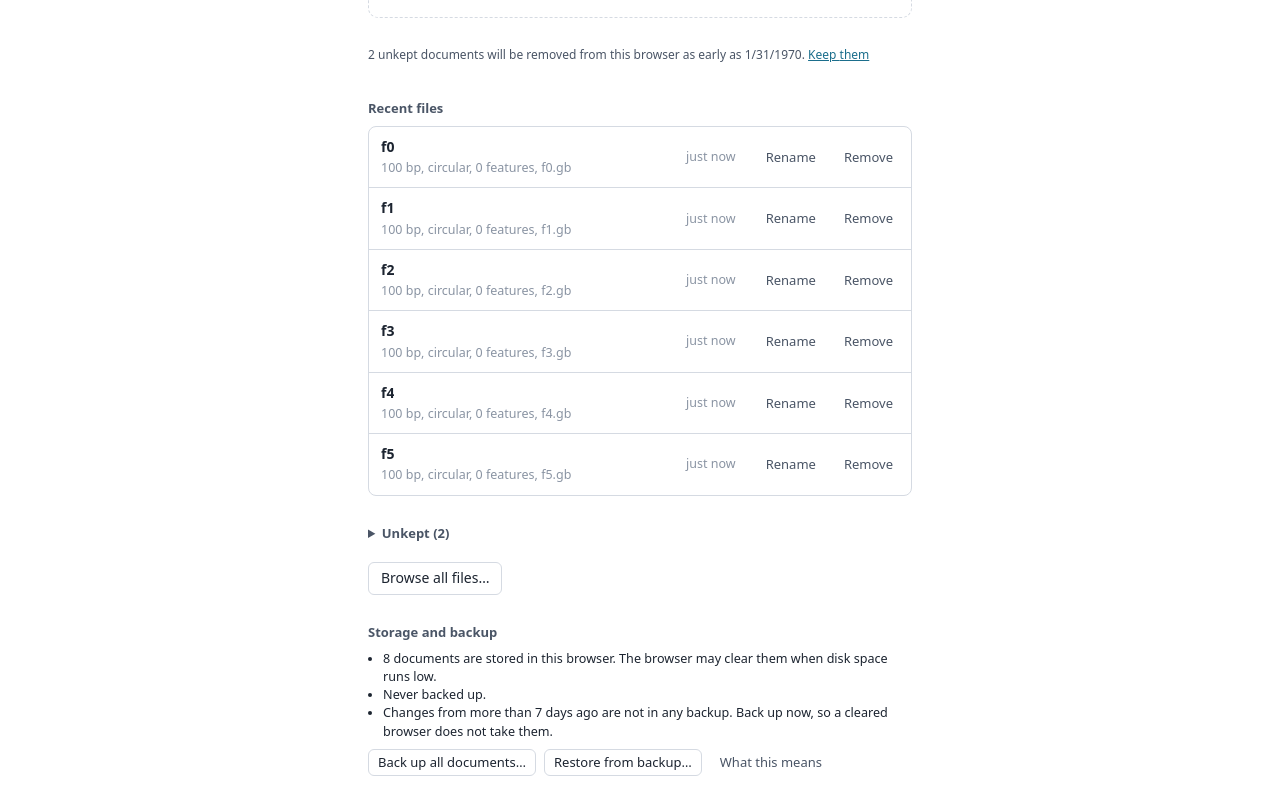
Test: scratch products of one parent are one row (item 111) › groups in the browse panel too, ticks a group at once, and opens it when searching
(page scrolled)
Click the button "Browse all files…". click: point(435, 579)
box: 368,562 -> 502,595
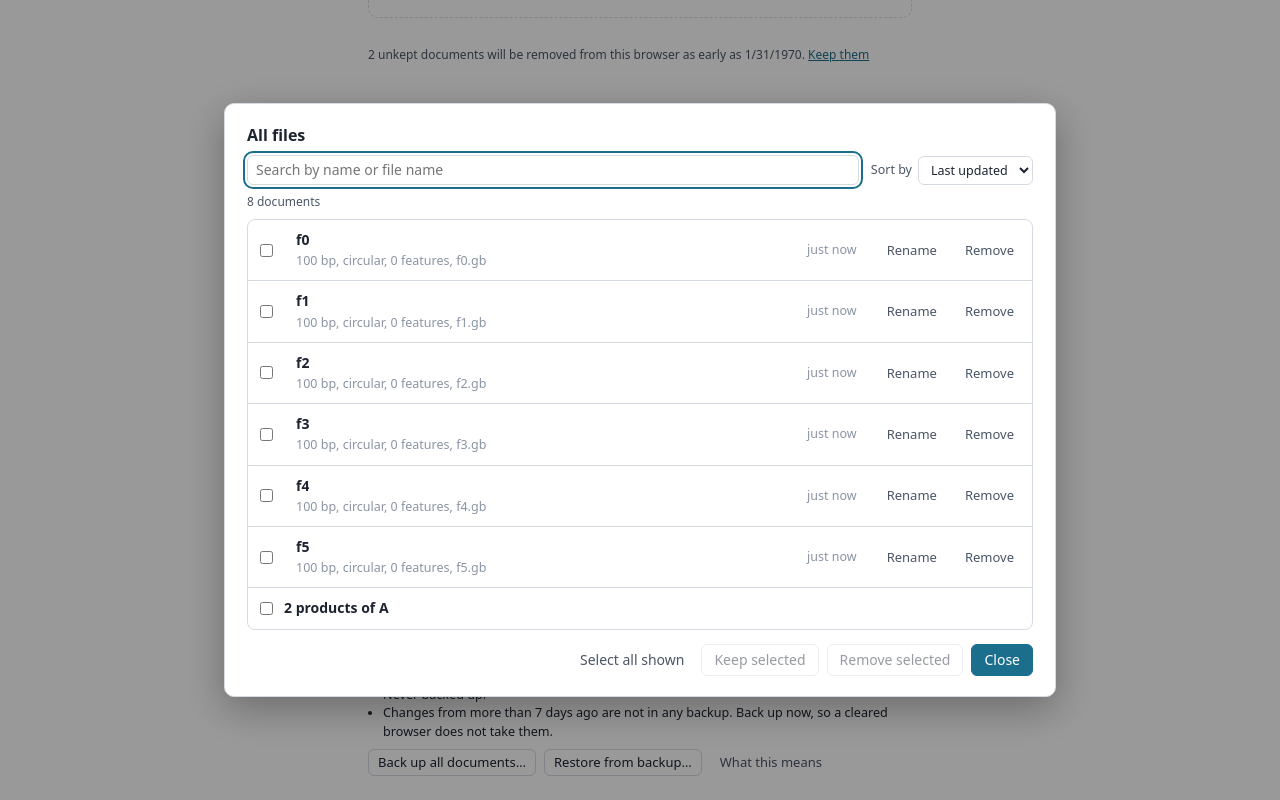
Click the checkbox named "Select the 2 products of A". click: point(266, 608)
box: 260,602 -> 273,615
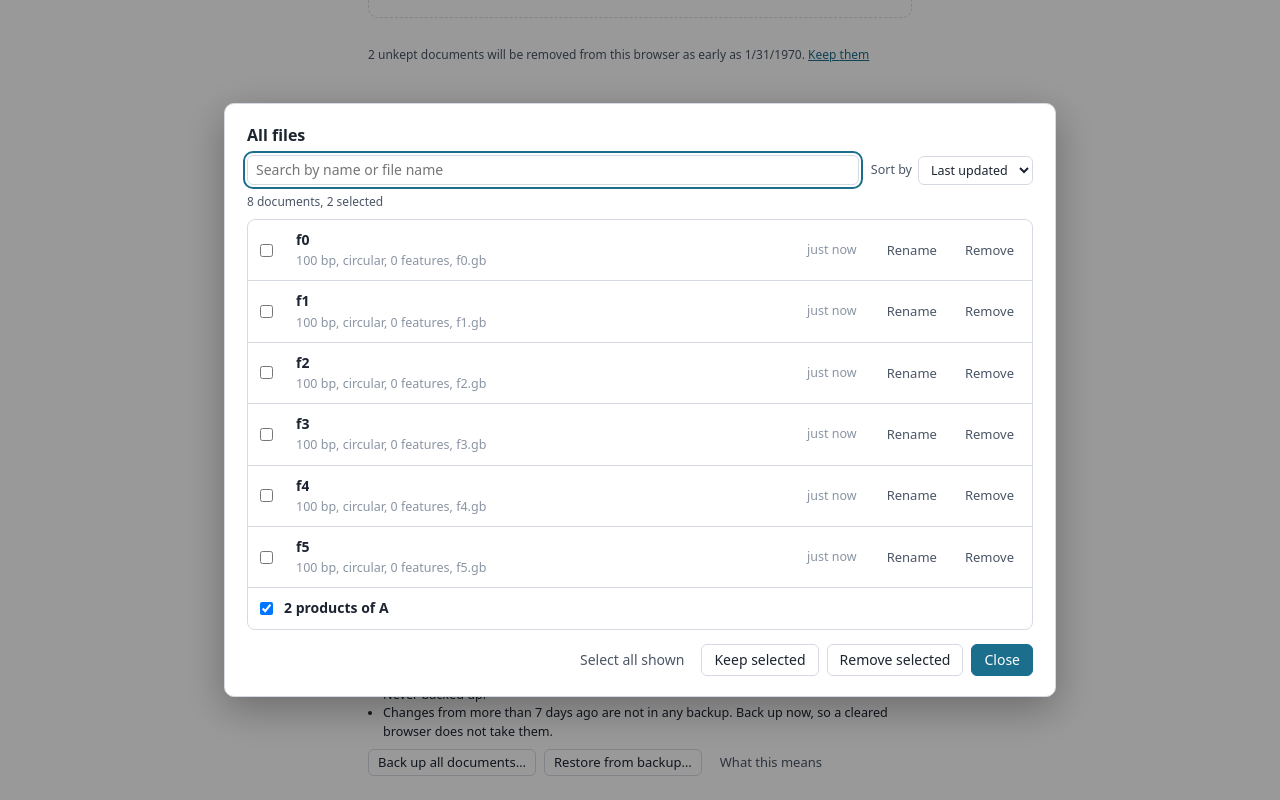
Click the button "Remove selected". click: point(895, 660)
box: 826,644 -> 963,676
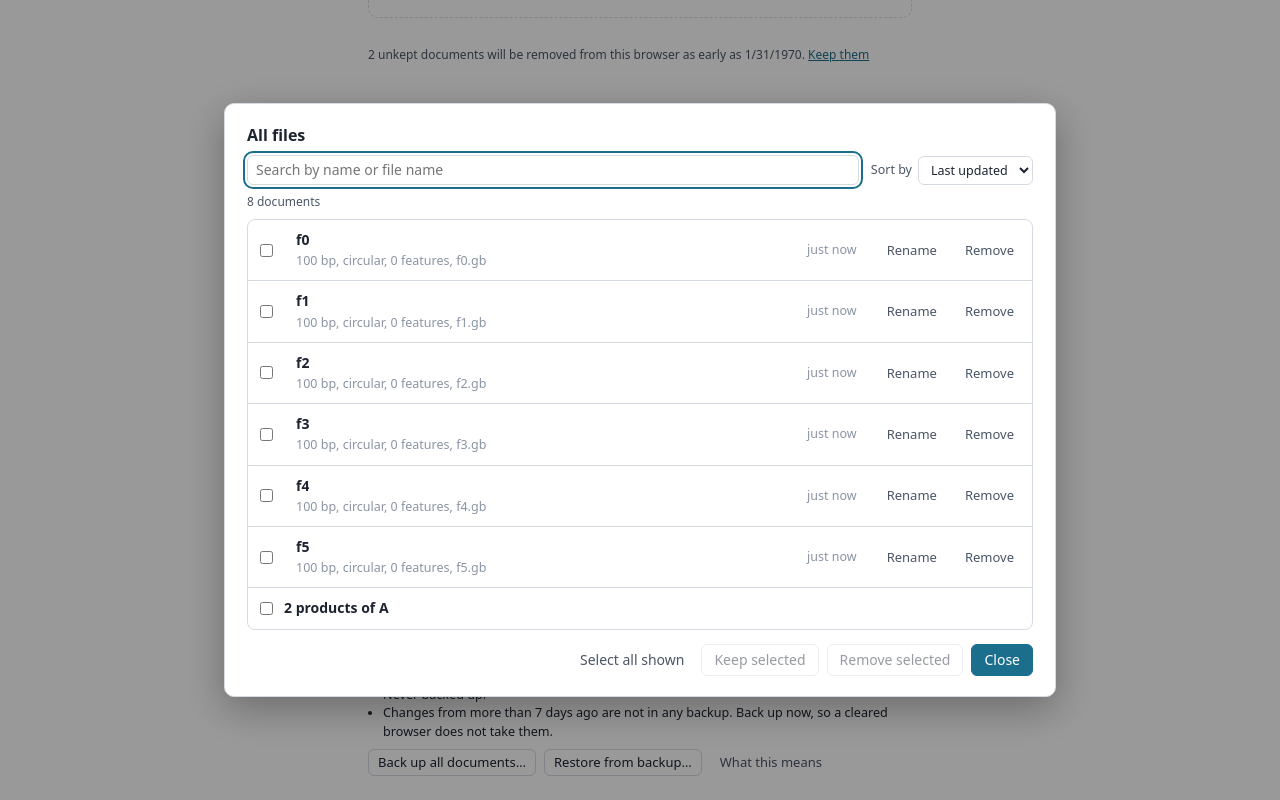
Type "ligation 1" into the search field. click: point(553, 170)
box: 247,155 -> 859,186
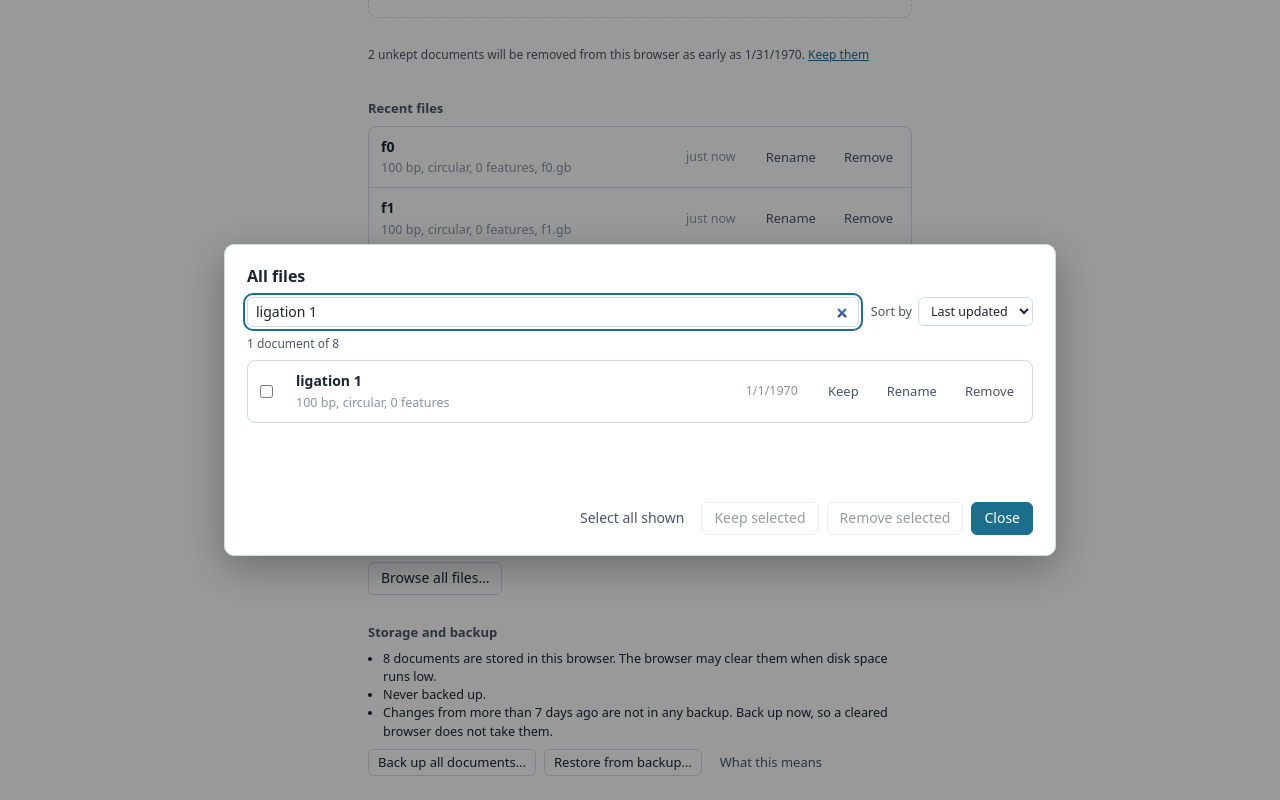
Expected: the heading "products of A" is gone
Expected: the text "ligation 1" is shown, 296,371 -> 362,392
